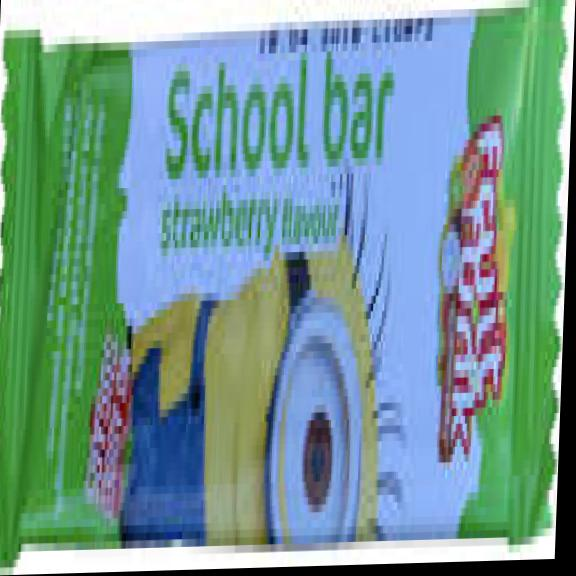Plastik: (0, 0, 569, 576)
